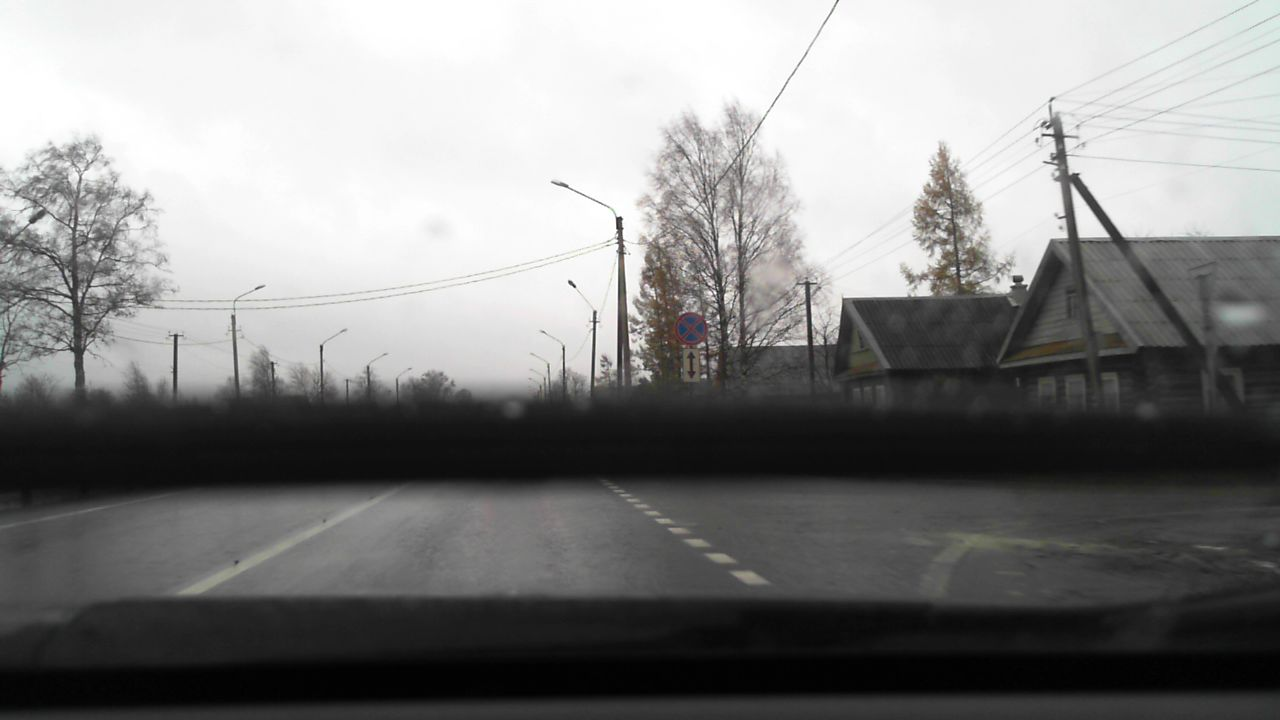No Parking: (673, 312, 707, 345)
